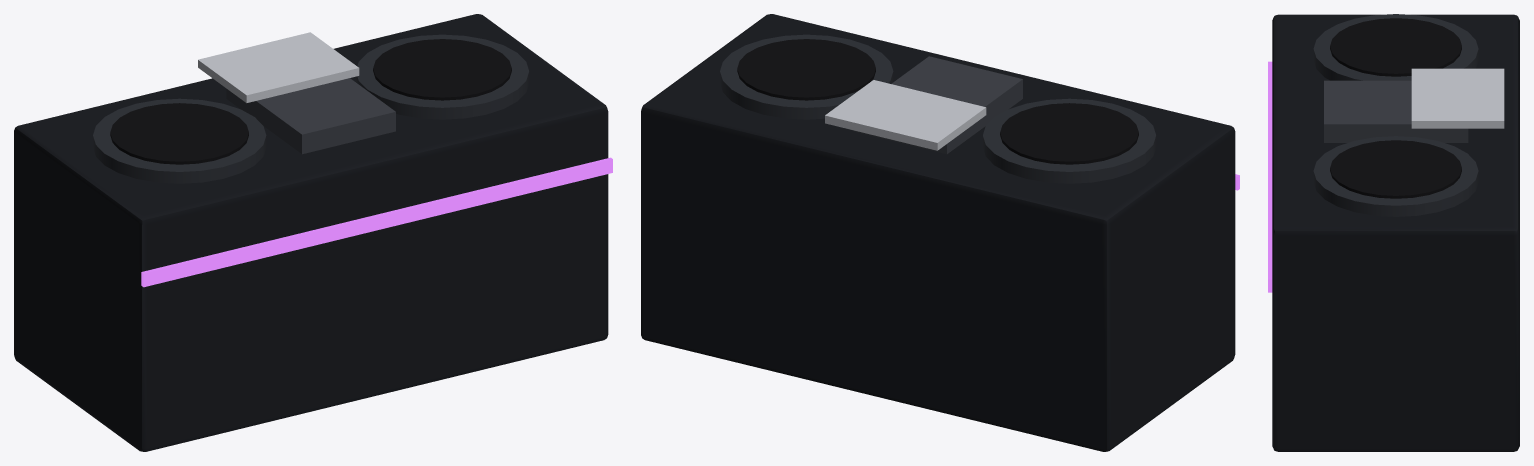
File: dj-booth.glb
3 views of the same model, side by side, from view 1: azimuth 30°, elevation 25°; view 2: azimuth 150°, elevation 25°; view 3: azimuth 270°, elevation 25° (orthographic). The views are drawn at different scales.
Parts seen in each view (by area): view 1: part-dj-desk, part-record, part-platter, part-led, part-mixer, part-laptop; view 2: part-dj-desk, part-record, part-platter, part-laptop, part-mixer; view 3: part-dj-desk, part-record, part-platter, part-mixer, part-laptop, part-led.
Part boxes in pixels (x1,y1,x2,y2): part-dj-desk: (14,14,608,451); part-record: (110,39,511,164); part-platter: (93,34,529,183); part-led: (141,157,612,287); part-mixer: (226,78,395,154); part-laptop: (198,32,359,102); part-dj-desk: (641,14,1235,451); part-record: (737,39,1138,164); part-platter: (720,34,1156,183); part-laptop: (825,80,986,150); part-mixer: (853,56,1022,154); part-dj-desk: (1272,14,1519,451); part-record: (1330,18,1461,198); part-platter: (1313,14,1478,216); part-mixer: (1324,80,1468,142); part-laptop: (1411,68,1504,128); part-led: (1268,61,1272,292).
Bounding box in the file's own units: 50 × 26.8 × 24.4.
